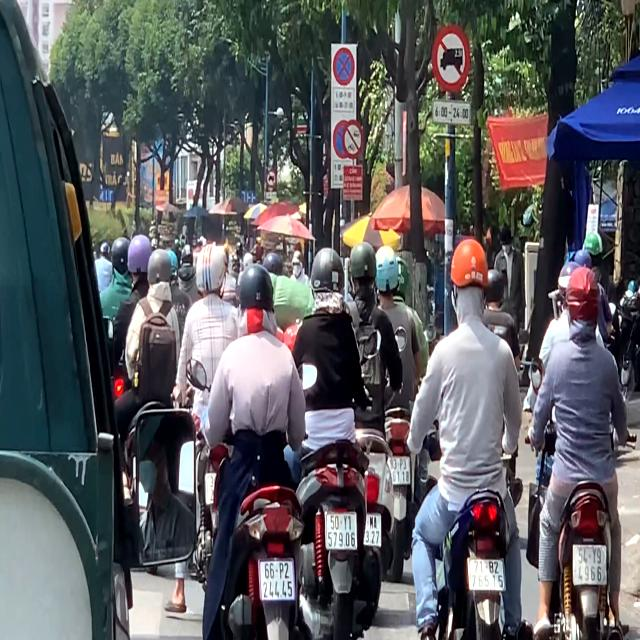P.106b: (434, 24, 466, 92)
P.130: (332, 45, 356, 88)
